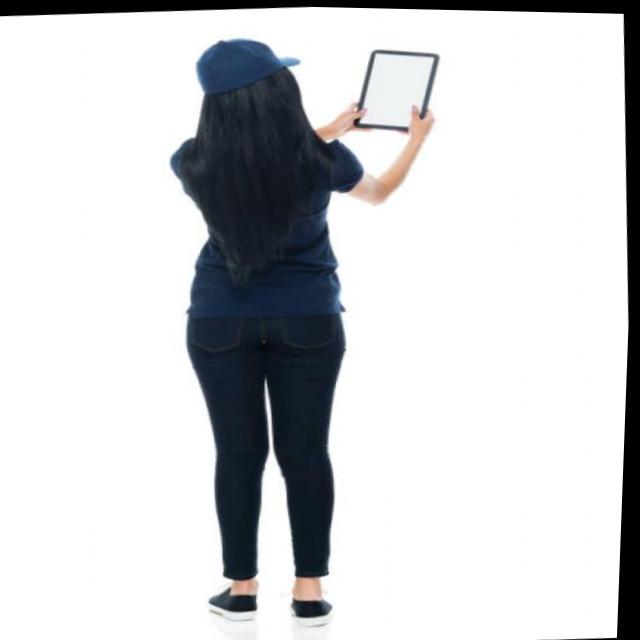no helmet: (186, 15, 323, 149)
